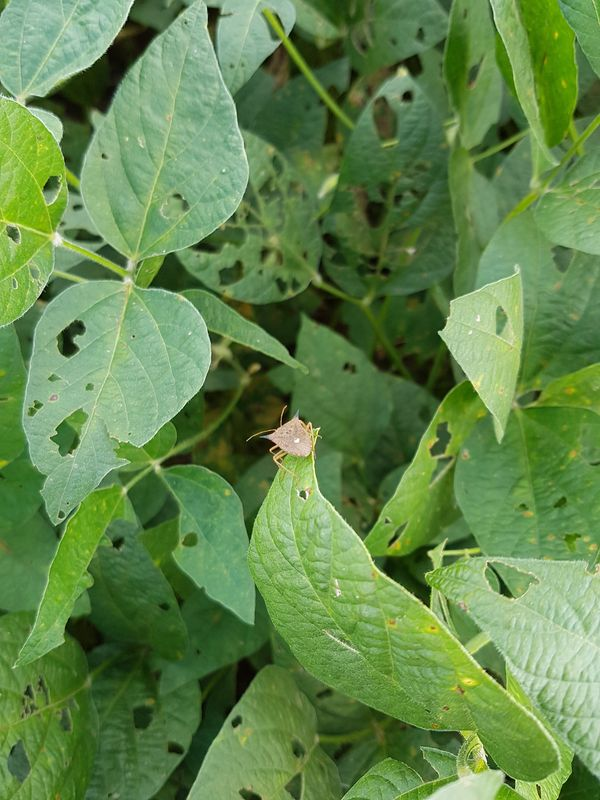Euschistus_heros_adulto: (243, 400, 330, 482)
